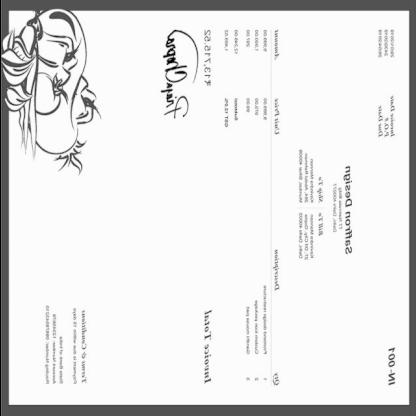Paragraph: (41, 300, 91, 388), (374, 25, 398, 141), (328, 163, 354, 257), (222, 24, 240, 134), (294, 147, 326, 205), (294, 210, 326, 262), (199, 306, 215, 388), (198, 25, 216, 93), (384, 344, 398, 390)
Table: (242, 25, 282, 387)
